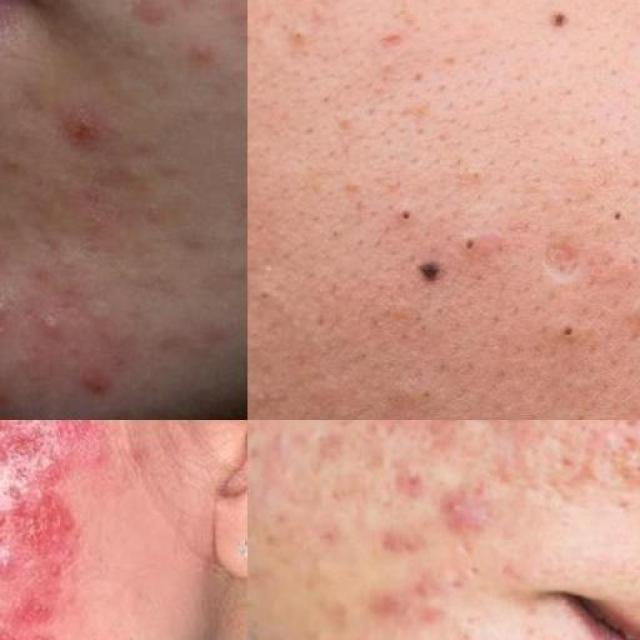blackhead: (455, 218, 507, 268), (591, 195, 640, 237), (562, 325, 574, 337), (260, 292, 268, 300), (402, 212, 409, 220), (555, 16, 562, 22)
